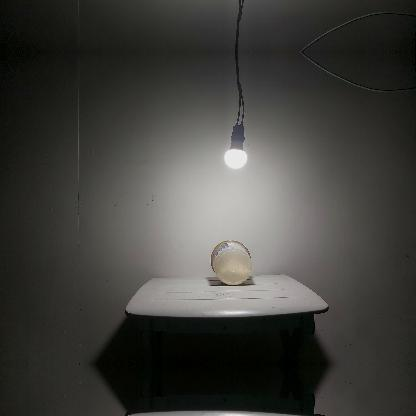Lady-s-Choice: (209, 238, 254, 286)
